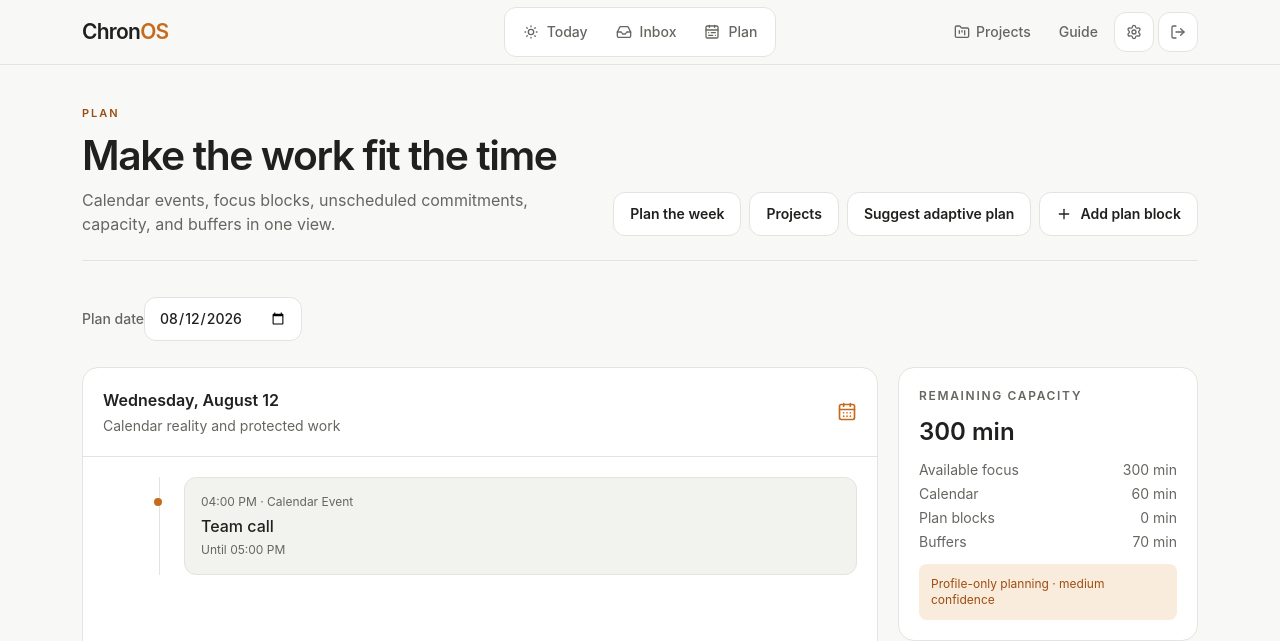
Test: surfaces an atomic transaction failure without a success state
Click the button "Add plan block" at x=1119, y=214, box top-left (1039, 192), bottom-right (1198, 236)
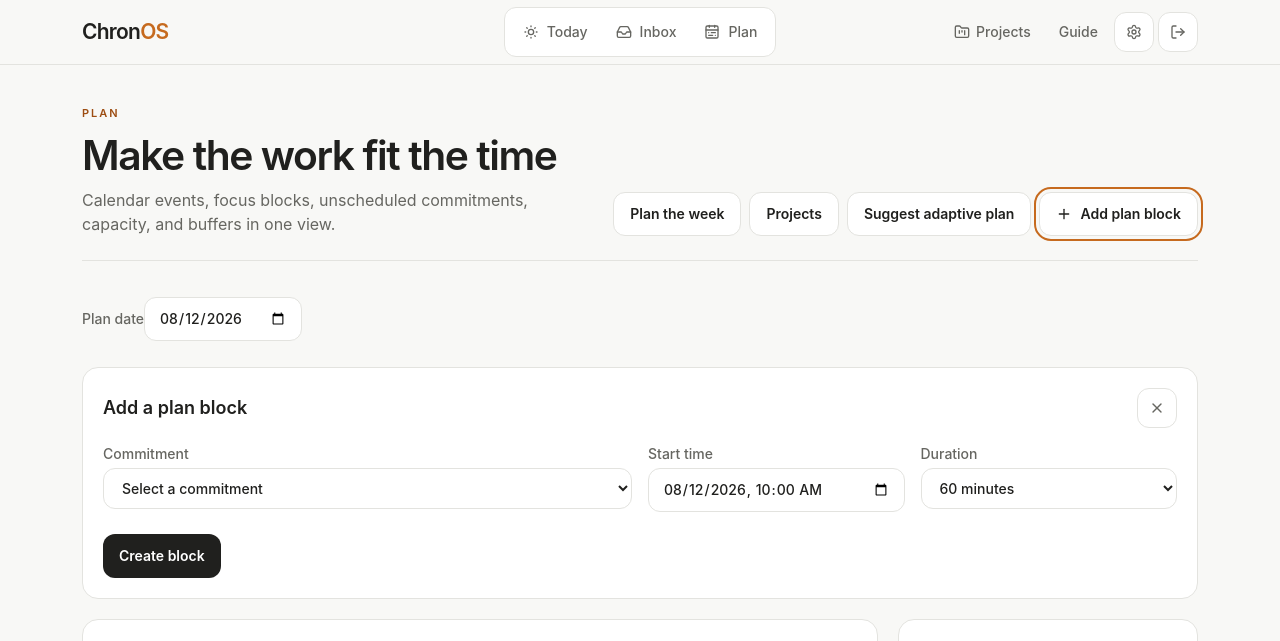
Select "Authentication regression fix" in the dropdown labelled "Commitment" at x=368, y=489, box top-left (103, 468), bottom-right (632, 510)
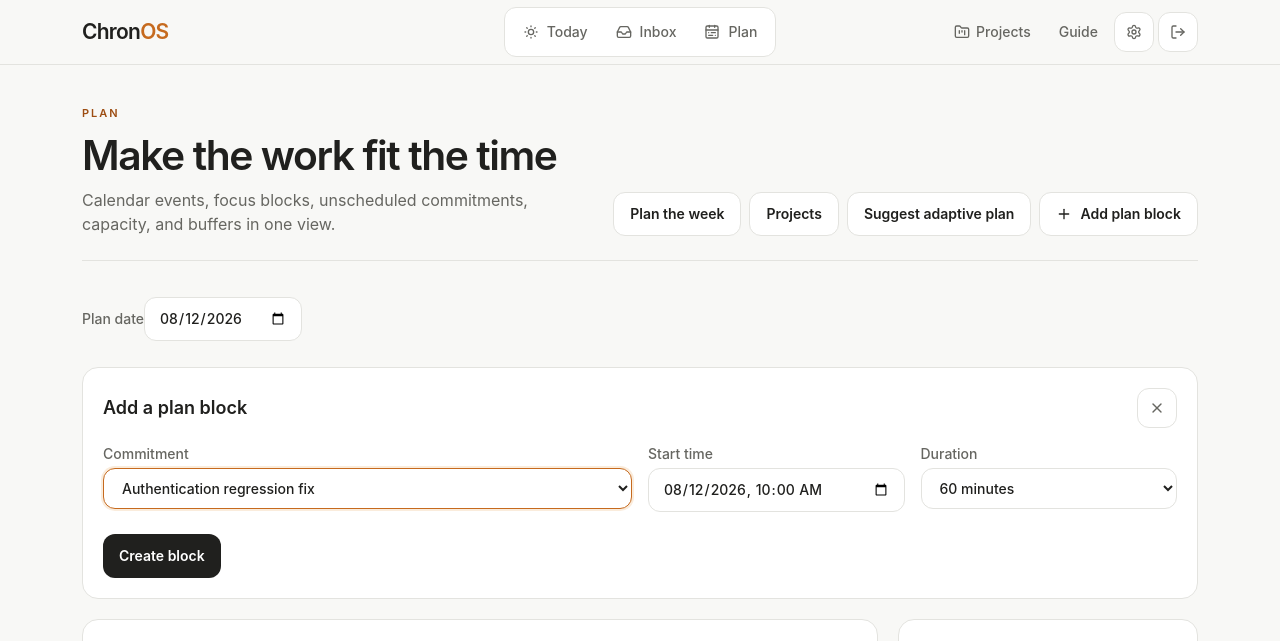
Click the button "Create block" at x=162, y=556, box top-left (103, 534), bottom-right (221, 578)
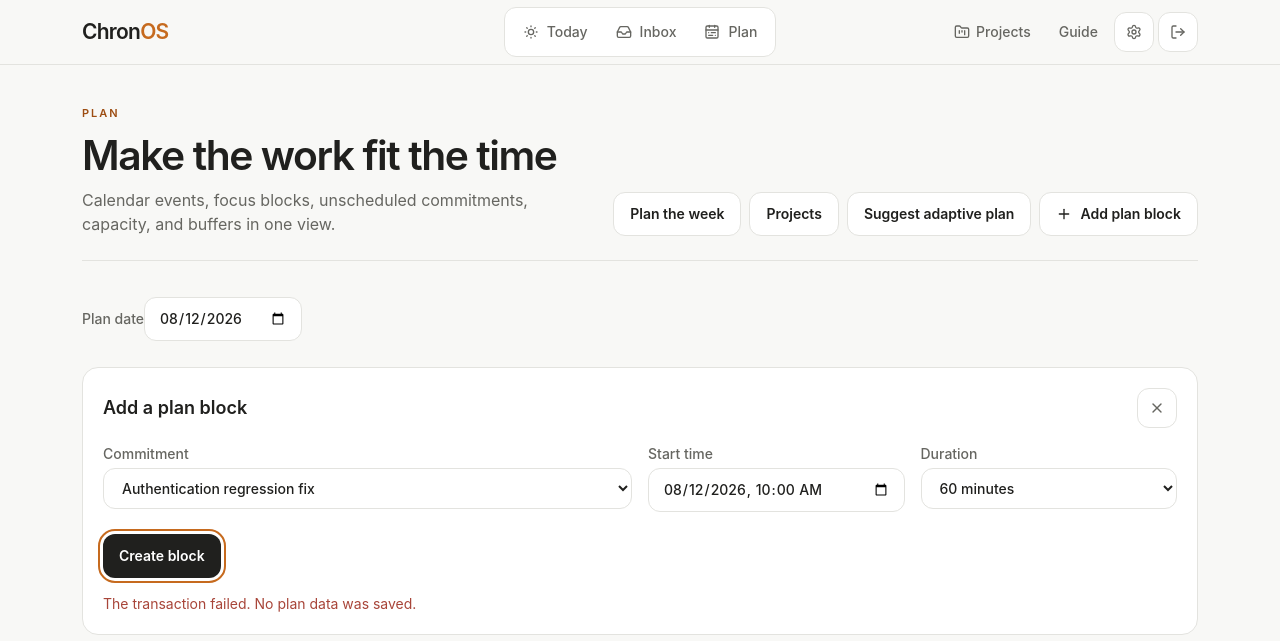
Now the message shows "No plan data was saved", box top-left (103, 596), bottom-right (416, 612)
